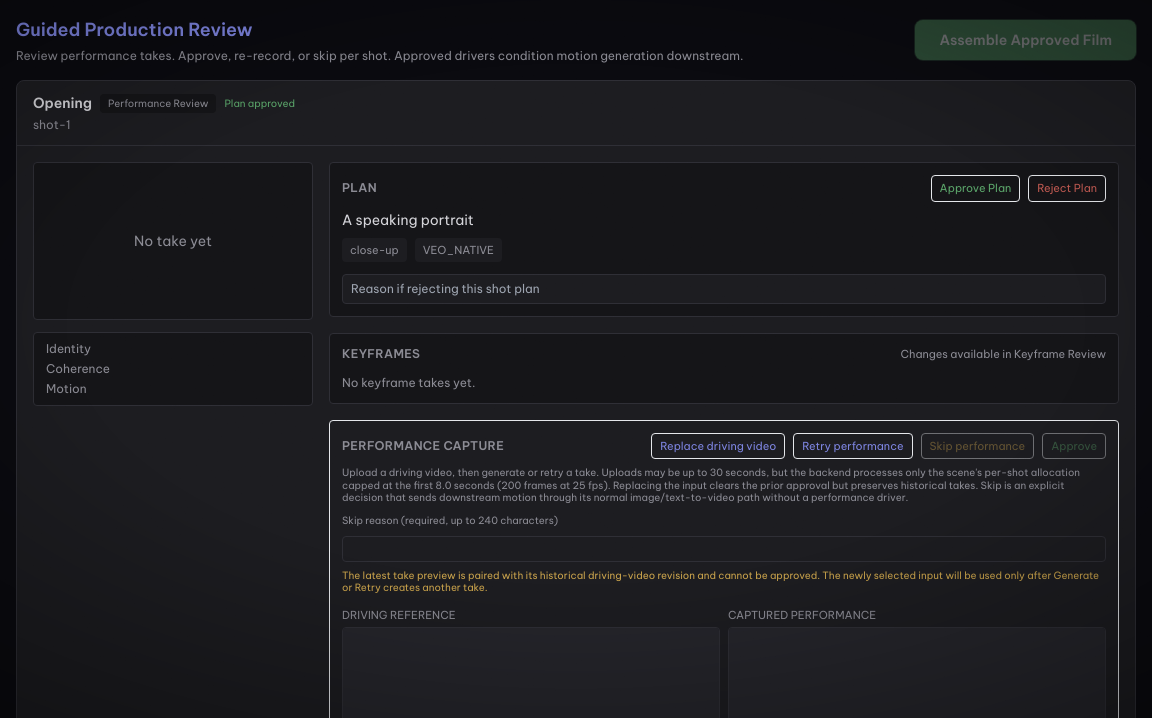
ReviewStage performance review workflow › keeps a failed retry in review and does not refresh as if it succeeded
Click the button "Retry performance" at (853, 446), box [793, 432, 912, 459]
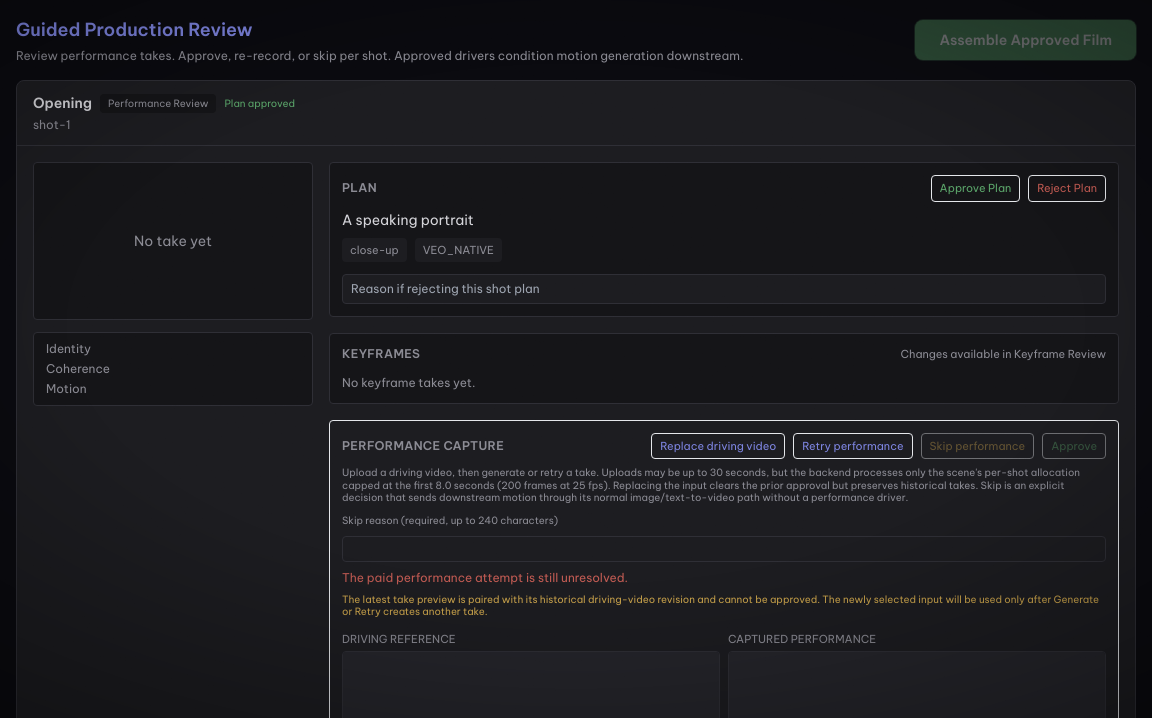
Expected: the text "The latest take preview is paired with its historical driving-video revision and cannot be approved." is shown, [342, 592, 1099, 618]
Now the message reads "The paid performance attempt is still unresolved.", box [342, 570, 628, 584]
